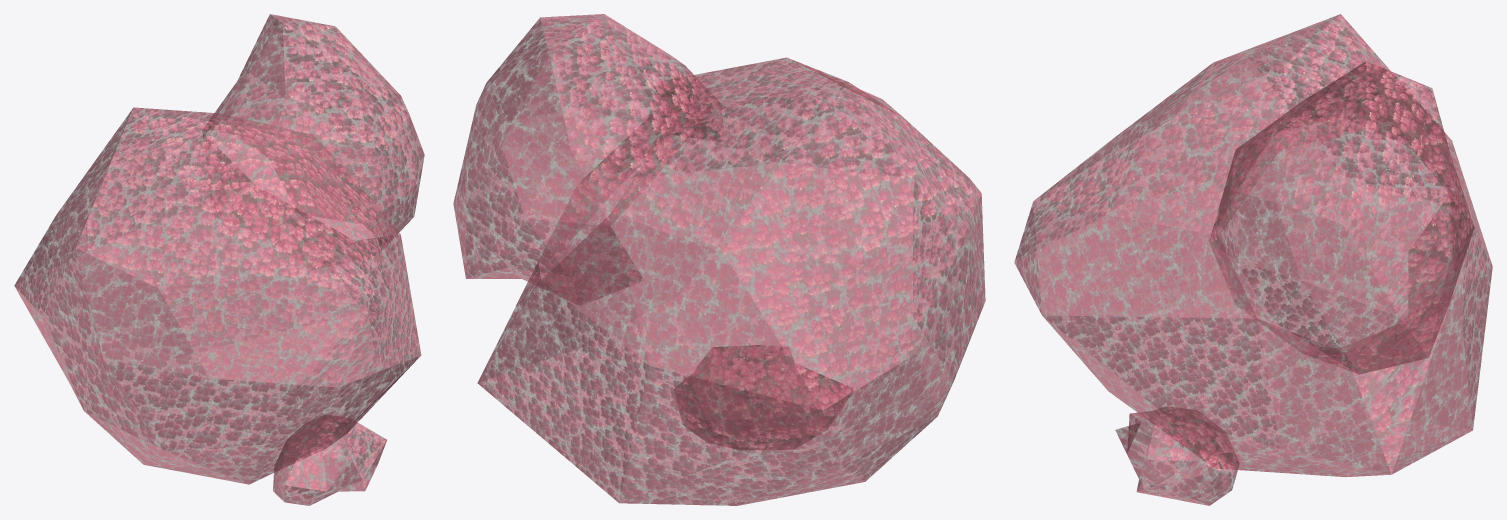
File: tree-pink.glb
The picture shows the model from 3 angles, left to right: view 1: azimuth 30°, elevation 25°; view 2: azimuth 150°, elevation 25°; view 3: azimuth 270°, elevation 25°; orthographic projection. The views are drawn at different scales.
Visible parts, largest first — view 1: Icosphere.004; view 2: Icosphere.004; view 3: Icosphere.004.
Boxes of the visible parts, box(x1,y1,x2,y2) form: Icosphere.004: box(14, 14, 424, 505); Icosphere.004: box(453, 14, 985, 505); Icosphere.004: box(1014, 14, 1492, 505).
Bounding box in the file's own units: 3.01 × 3.13 × 2.96.
1 material, 1 textured.
